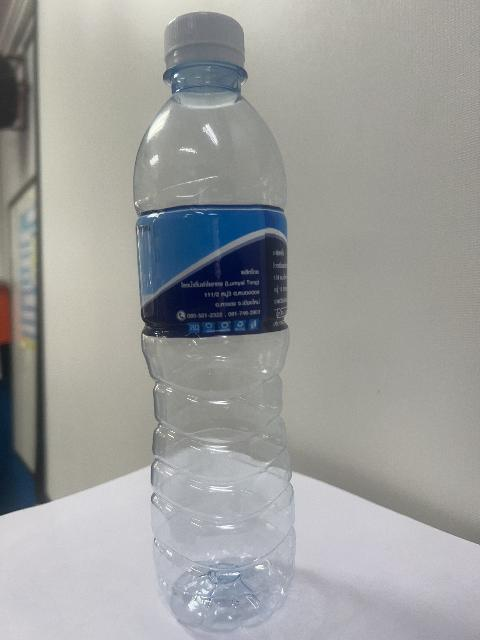bottle: (134, 13, 295, 631)
